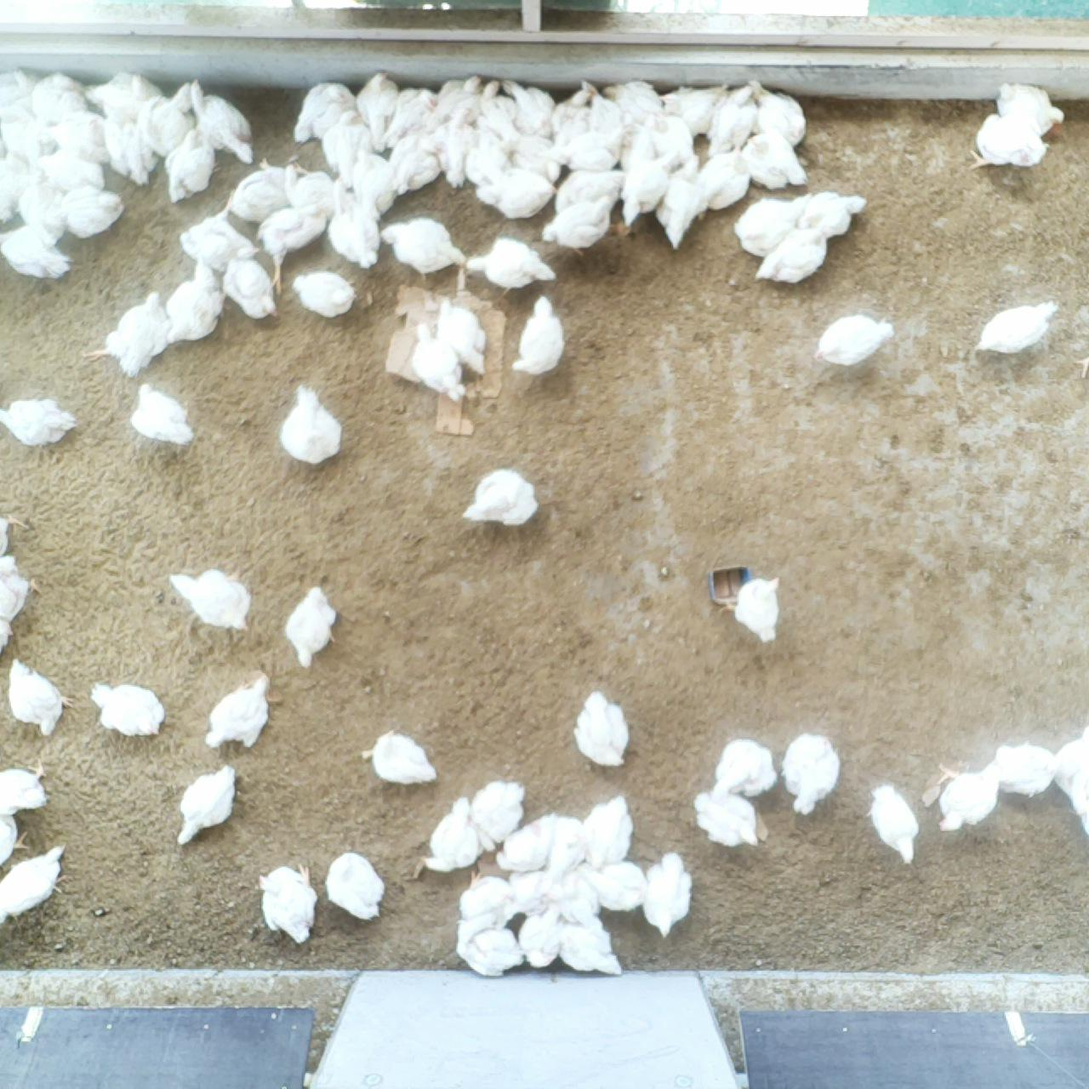chicken: (81, 287, 174, 381), (178, 188, 264, 275), (254, 205, 329, 297), (412, 794, 487, 883), (188, 75, 257, 167), (379, 215, 472, 283), (167, 565, 254, 637), (163, 256, 231, 346), (278, 379, 347, 467), (203, 671, 276, 754), (655, 150, 712, 255), (0, 842, 70, 927), (7, 655, 77, 740), (174, 763, 242, 850), (731, 190, 813, 262), (972, 296, 1063, 360), (465, 235, 560, 296), (779, 729, 844, 818), (256, 860, 321, 948), (812, 310, 897, 375), (325, 176, 382, 272), (639, 849, 696, 943), (510, 292, 570, 381), (934, 759, 1005, 834), (460, 465, 544, 528), (409, 318, 469, 404), (968, 111, 1051, 173), (282, 583, 340, 671), (568, 689, 631, 770), (981, 738, 1063, 800), (135, 81, 199, 160), (718, 574, 787, 646), (540, 194, 615, 259), (863, 782, 920, 867), (127, 381, 198, 449), (620, 149, 679, 230), (90, 680, 169, 740), (360, 727, 439, 787), (323, 848, 386, 923), (691, 788, 767, 850), (293, 78, 360, 148), (469, 775, 528, 854), (475, 167, 561, 221), (713, 736, 780, 805), (557, 912, 626, 979), (490, 809, 560, 874), (228, 155, 292, 226), (429, 103, 480, 192), (437, 294, 491, 378), (0, 553, 44, 656), (703, 82, 761, 160), (218, 255, 282, 325), (753, 228, 830, 286), (747, 77, 809, 149), (321, 106, 375, 188), (163, 127, 218, 207), (0, 396, 81, 450), (740, 128, 808, 191), (583, 790, 637, 869), (85, 70, 164, 124), (57, 181, 128, 241), (105, 111, 160, 188), (356, 68, 404, 156), (0, 225, 74, 282), (659, 81, 733, 138), (995, 79, 1065, 139), (696, 141, 753, 214), (578, 859, 651, 914), (794, 188, 870, 240), (455, 924, 526, 979), (498, 74, 557, 140), (281, 157, 344, 218), (291, 268, 362, 322), (381, 84, 439, 150), (389, 130, 445, 198), (472, 79, 523, 153), (51, 108, 118, 164), (16, 165, 68, 237), (580, 78, 628, 155), (349, 148, 400, 220), (459, 869, 518, 931), (554, 168, 625, 219), (561, 125, 633, 175), (548, 869, 606, 929), (0, 756, 54, 818), (540, 816, 584, 891), (601, 79, 670, 125), (433, 75, 491, 129), (517, 901, 563, 969), (29, 70, 86, 124), (499, 869, 553, 923), (1052, 720, 1089, 798), (37, 148, 105, 188), (0, 103, 52, 154), (553, 85, 597, 145), (462, 131, 510, 185), (652, 110, 699, 165), (618, 112, 658, 173), (516, 137, 567, 184), (0, 149, 30, 221), (0, 812, 31, 867), (1069, 760, 1089, 837), (0, 66, 36, 102)
